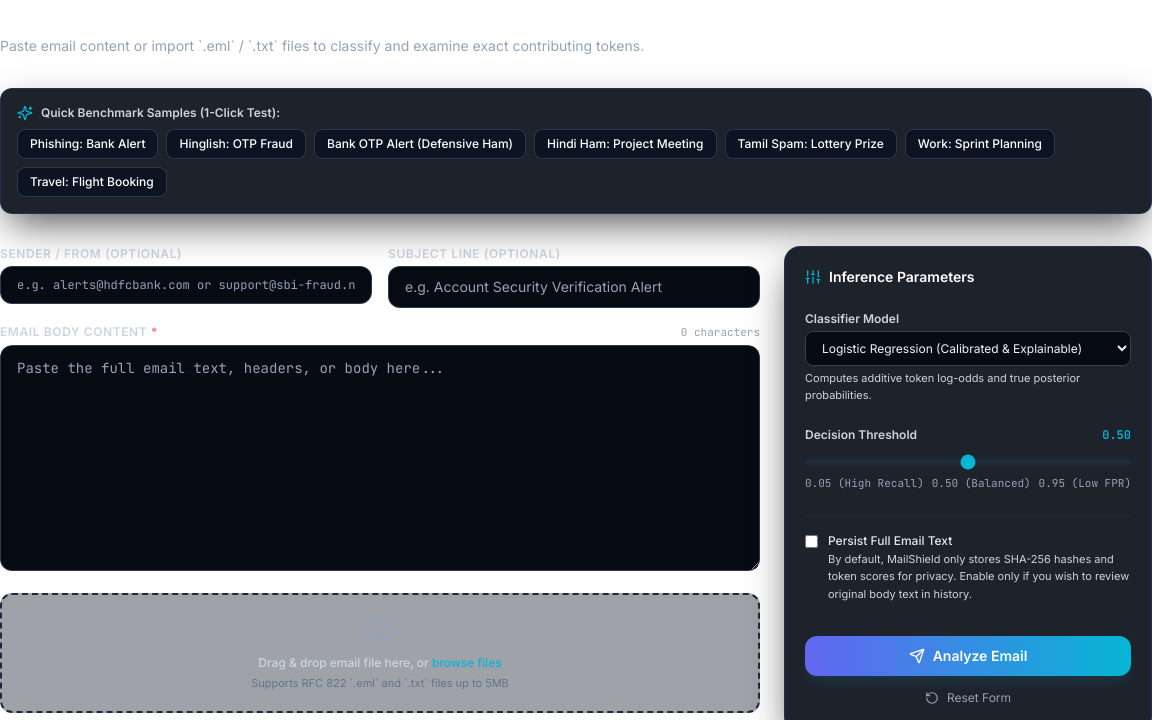
Test case: AnalyzerView Component › displays error banner when api.predict fails
Type "Test failure email" into the text box with placeholder "Paste the full email text, headers, or body here..." at (380, 458), box x1=0 y1=344 x2=760 y2=570
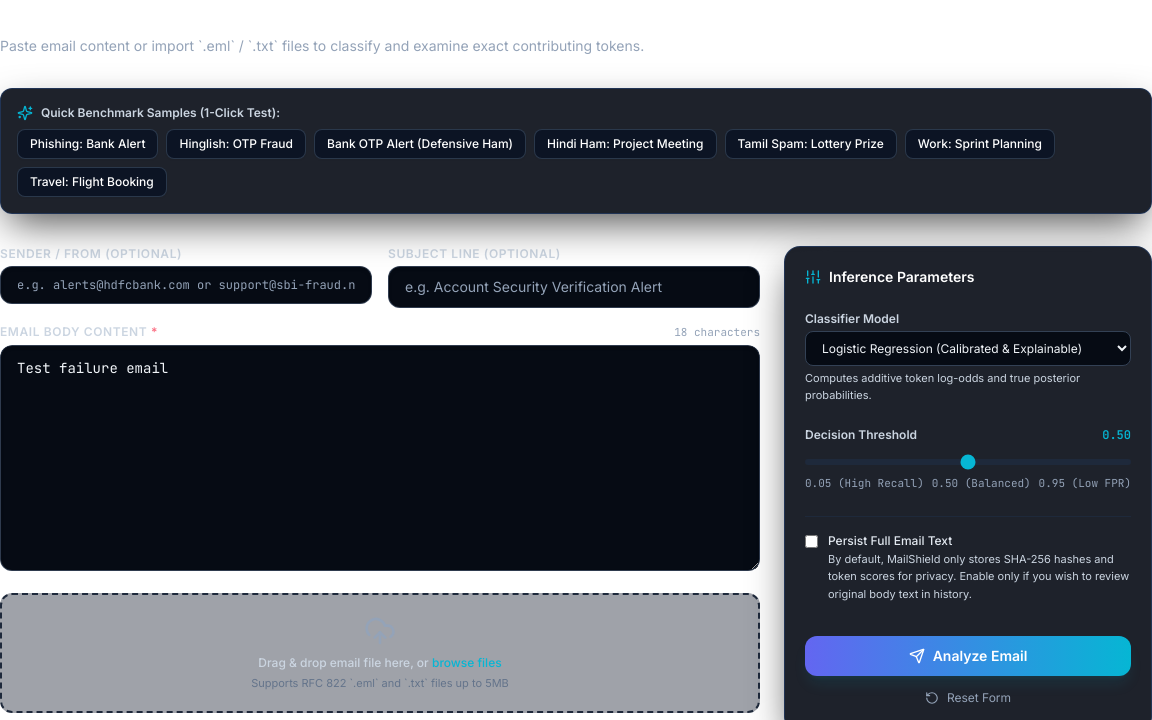
Click the button "Analyze Email" at (968, 656), box x1=805 y1=636 x2=1131 y2=676
(page scrolled)
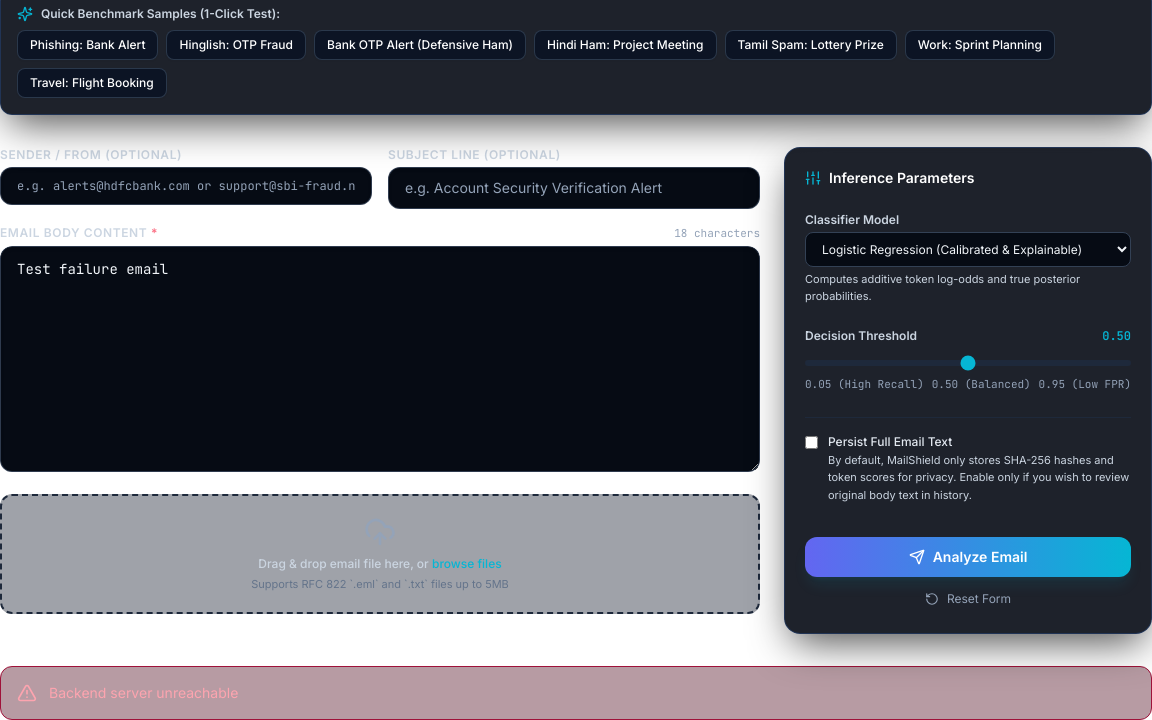
Check: the text "Backend server unreachable" is shown, box x1=49 y1=683 x2=238 y2=703
